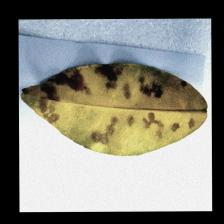canker: (35, 60, 199, 149)
